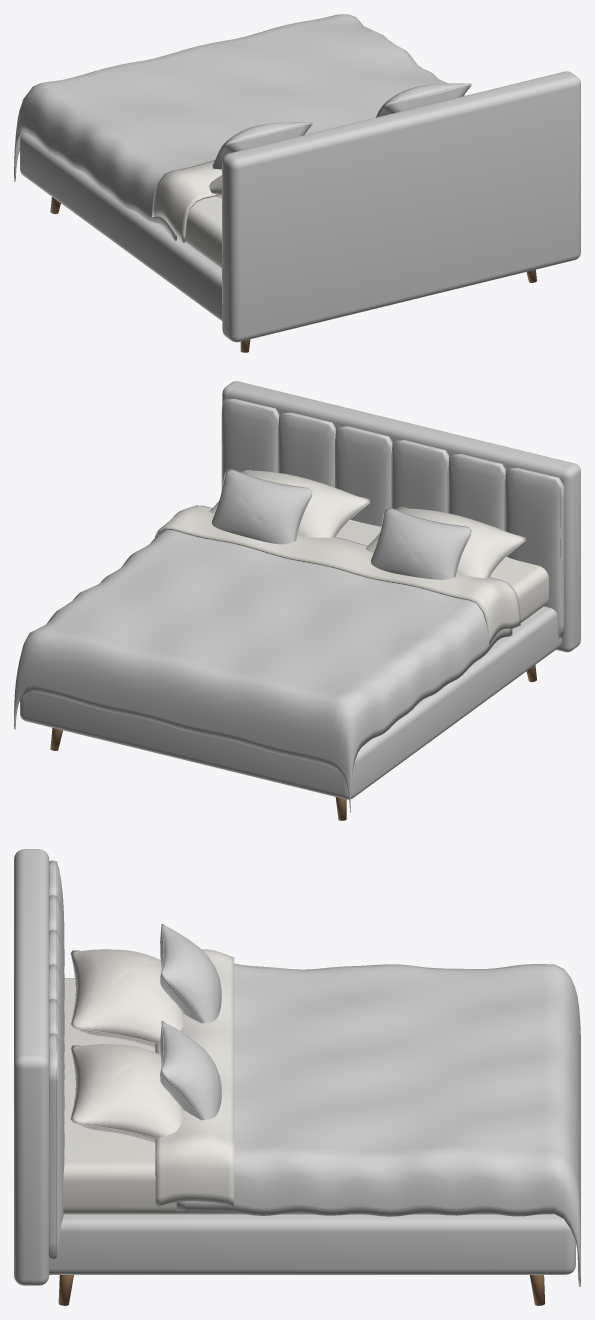
Rendered from bed-upholstered.glb.
3 views of the same model, one above another, from view 1: azimuth 30°, elevation 25°; view 2: azimuth 150°, elevation 25°; view 3: azimuth 270°, elevation 25° (orthographic). The views are drawn at different scales.
Visible parts, largest first — view 1: Padded headboard, Soft draped duvet, Upholstered platform, Turned-back duvet edge, Rounded mattress, Loose accent pillow, Loose accent pillow.001; view 2: Soft draped duvet, Upholstered platform, Padded headboard, Turned-back duvet edge, Headboard padded channel, Loose accent pillow.001, Loose accent pillow, Headboard padded channel.003, Headboard padded channel.005, Headboard padded channel.002, Headboard padded channel.004, Headboard padded channel.001 (+3 smaller); view 3: Soft draped duvet, Upholstered platform, Padded headboard, Rounded mattress, Turned-back duvet edge, Sleeping pillow.001, Sleeping pillow, Loose accent pillow, Loose accent pillow.001, Headboard padded channel.005, Headboard padded channel.004, Headboard padded channel.003 (+3 smaller).
Part boxes in pixels (x1=…): Padded headboard: x1=222, y1=71, x2=580, y2=342; Soft draped duvet: x1=14, y1=14, x2=464, y2=240; Upholstered platform: x1=20, y1=132, x2=222, y2=320; Turned-back duvet edge: x1=152, y1=160, x2=221, y2=242; Rounded mattress: x1=185, y1=196, x2=221, y2=268; Loose accent pillow: x1=212, y1=122, x2=312, y2=169; Loose accent pillow.001: x1=376, y1=83, x2=471, y2=117; Soft draped duvet: x1=14, y1=530, x2=512, y2=807; Upholstered platform: x1=20, y1=606, x2=561, y2=799; Padded headboard: x1=222, y1=381, x2=580, y2=652; Turned-back duvet edge: x1=155, y1=505, x2=520, y2=645; Headboard padded channel: x1=505, y1=468, x2=564, y2=637; Loose accent pillow.001: x1=212, y1=469, x2=311, y2=544; Loose accent pillow: x1=371, y1=508, x2=470, y2=579; Headboard padded channel.003: x1=335, y1=426, x2=392, y2=526; Headboard padded channel.005: x1=222, y1=398, x2=279, y2=486; Headboard padded channel.002: x1=392, y1=440, x2=449, y2=512; Headboard padded channel.004: x1=278, y1=412, x2=335, y2=487; Headboard padded channel.001: x1=448, y1=454, x2=505, y2=530; Soft draped duvet: x1=176, y1=963, x2=580, y2=1286; Upholstered platform: x1=49, y1=1214, x2=575, y2=1274; Padded headboard: x1=14, y1=849, x2=49, y2=1285; Rounded mattress: x1=63, y1=978, x2=553, y2=1214; Turned-back duvet edge: x1=155, y1=949, x2=234, y2=1207; Sleeping pillow.001: x1=71, y1=1044, x2=183, y2=1142; Sleeping pillow: x1=71, y1=949, x2=184, y2=1047; Loose accent pillow: x1=160, y1=924, x2=221, y2=1023; Loose accent pillow.001: x1=160, y1=1021, x2=221, y2=1120; Headboard padded channel.005: x1=49, y1=1033, x2=64, y2=1259; Headboard padded channel.004: x1=49, y1=998, x2=64, y2=1122; Headboard padded channel.003: x1=49, y1=964, x2=64, y2=1087.
Size of the model in its own units: 1.94 by 1.12 by 2.17.
Materials: 3 (1 with a texture image).
